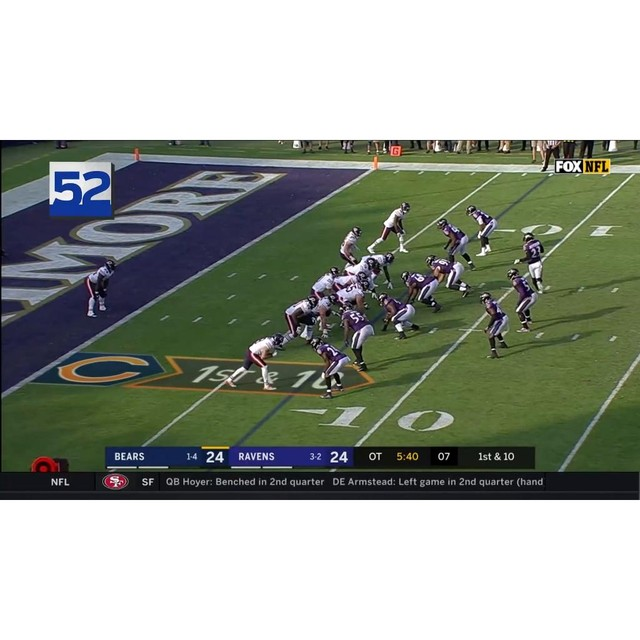american-football-player: (226, 333, 281, 390), (338, 303, 376, 370), (311, 336, 351, 398), (367, 201, 411, 254), (436, 218, 476, 271), (425, 253, 472, 297), (480, 292, 510, 360), (377, 291, 419, 339), (280, 295, 318, 348), (515, 231, 548, 292), (506, 270, 538, 332), (84, 259, 117, 318), (400, 270, 443, 313), (466, 204, 497, 256), (363, 252, 396, 288), (312, 293, 337, 338), (333, 283, 369, 313), (339, 226, 362, 268), (310, 268, 339, 299), (332, 272, 360, 291)
